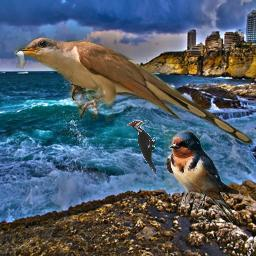Cuckoo: (10, 36, 255, 145)
Swallow: (164, 130, 239, 225)
Woodpecker: (127, 120, 156, 176)
